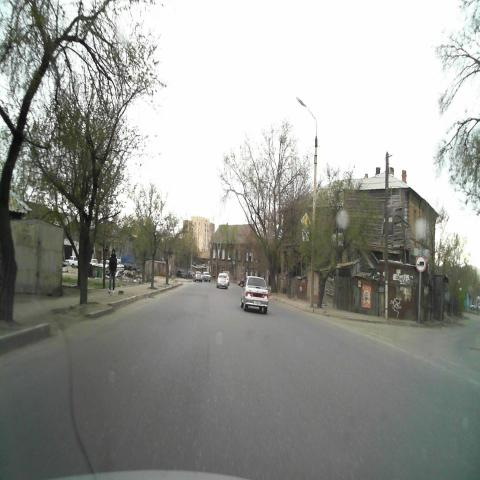3_4_1: (416, 255, 426, 274)
